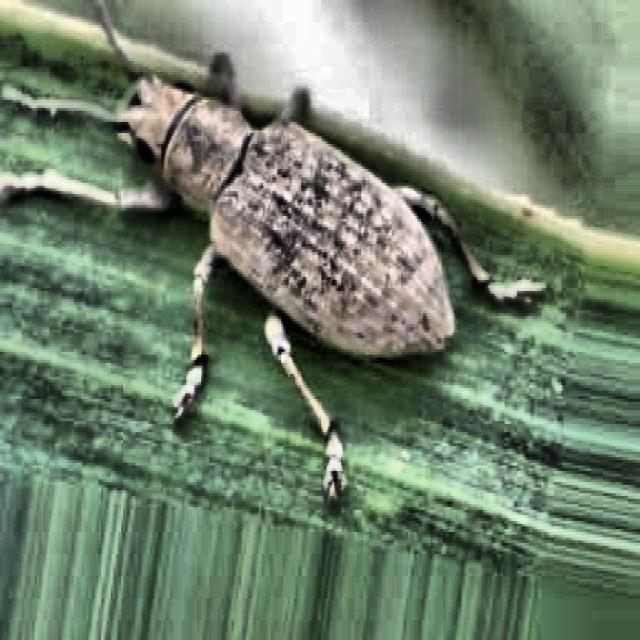Stink bug: (45, 8, 493, 456)
